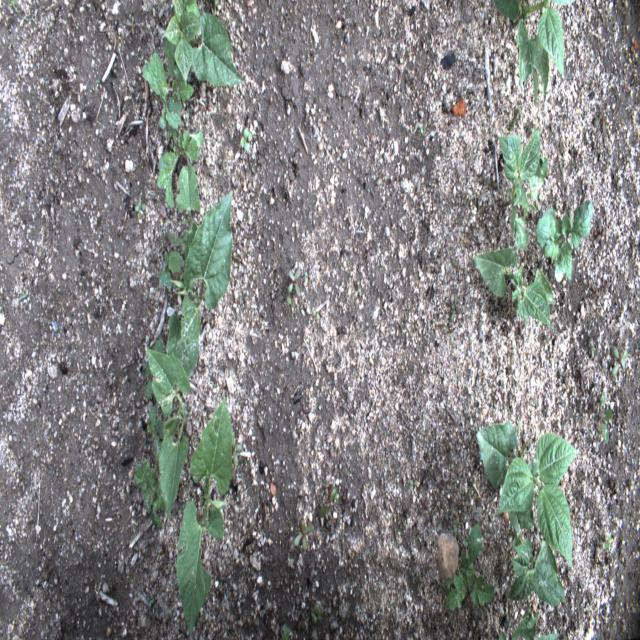crop: (476, 419, 581, 571), (176, 396, 232, 638), (165, 189, 234, 381), (493, 0, 575, 107), (145, 347, 191, 521), (471, 248, 555, 332), (161, 0, 243, 86), (497, 124, 548, 252), (536, 200, 593, 282), (506, 534, 566, 607), (166, 164, 200, 266), (498, 608, 560, 640)
weed: (439, 523, 495, 612), (157, 125, 206, 209), (143, 54, 194, 129), (133, 459, 166, 530), (147, 405, 171, 465), (158, 248, 184, 292), (596, 390, 614, 448), (319, 481, 340, 518), (294, 516, 315, 551), (612, 348, 629, 377), (286, 267, 301, 298), (592, 106, 608, 135), (230, 429, 242, 466), (450, 292, 461, 322), (596, 219, 607, 249), (240, 126, 252, 150), (310, 604, 322, 624), (126, 16, 136, 36), (135, 201, 147, 217), (603, 534, 610, 552)
